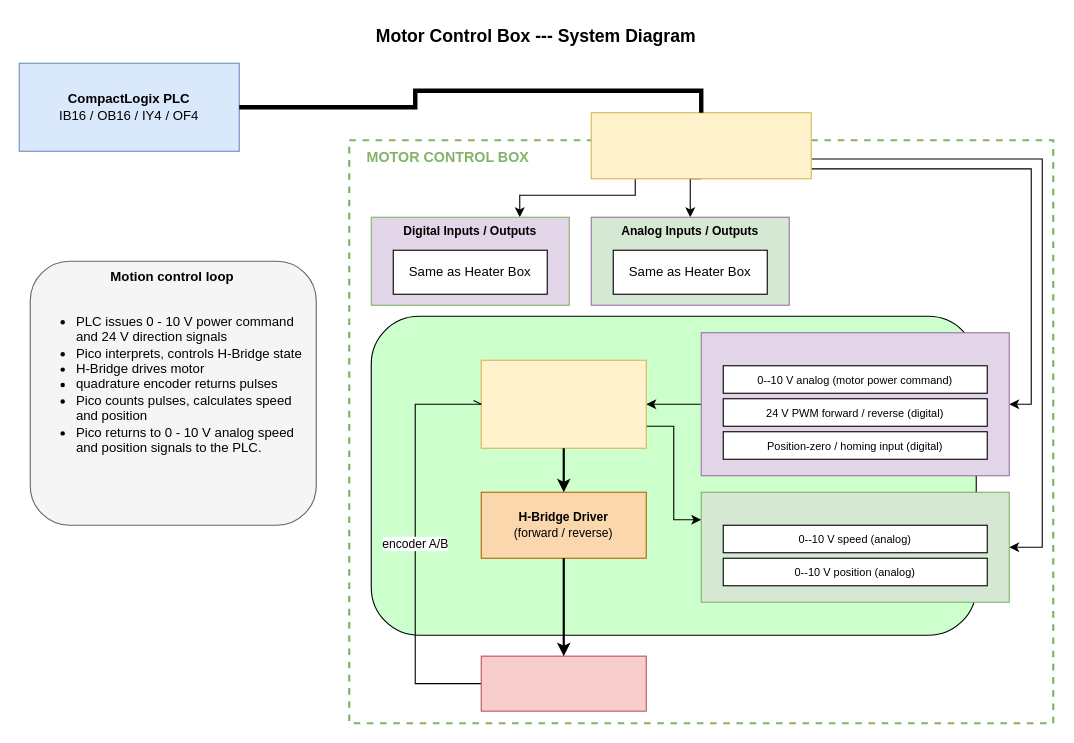
This 1074x743 diagram has some shape labels left out. Here are the shapes that lost their labels. From the top down, the box of each, then its label:
(590, 112, 811, 179): DB37 Passthrough Phoenix Contact TBs
(480, 359, 646, 448): Raspberry Pi Pico PIO quadrature decode PWM I/O conversion
(700, 332, 1009, 476): Commands from PLC
(700, 491, 1009, 602): Feedback to PLC
(480, 655, 646, 711): DC Brushed Motor with quadrature encoder
